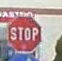stop: (4, 12, 42, 52)
